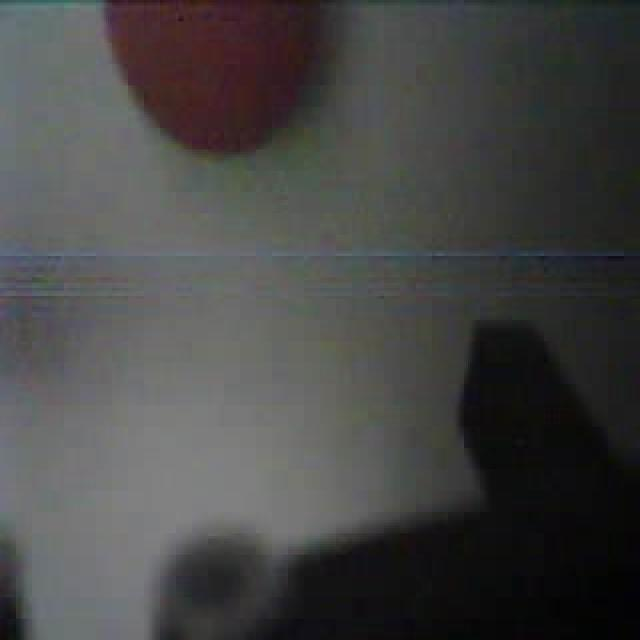red_ball: (98, 0, 320, 163)
